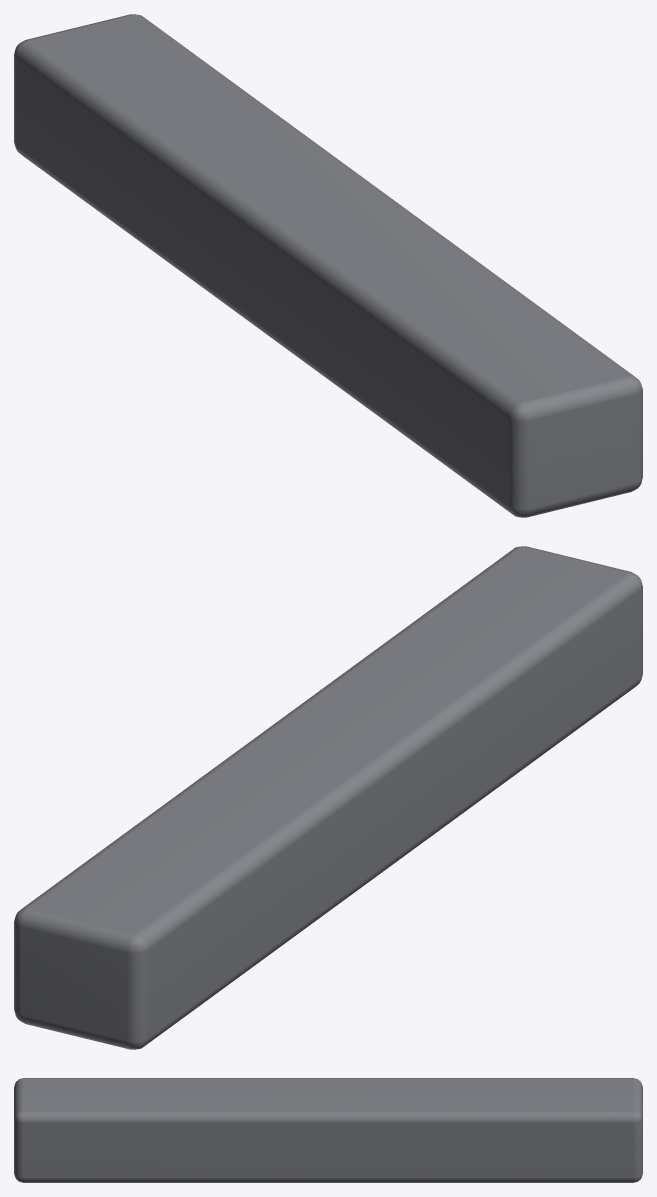
File: monorail-beam.fbx
The picture shows the model from 3 angles, top to bottom: view 1: azimuth 30°, elevation 25°; view 2: azimuth 150°, elevation 25°; view 3: azimuth 270°, elevation 25°; orthographic projection. The views are drawn at different scales.
Visible parts, largest first — view 1: monorail-beam; view 2: monorail-beam; view 3: monorail-beam.
Part boxes in pixels (x1,y1,x2,y2): monorail-beam: [14, 14, 642, 517]; monorail-beam: [14, 546, 642, 1049]; monorail-beam: [14, 1078, 642, 1182].
Size of the model in its own units: 600 by 500 by 4000.
1 material, 1 textured.
